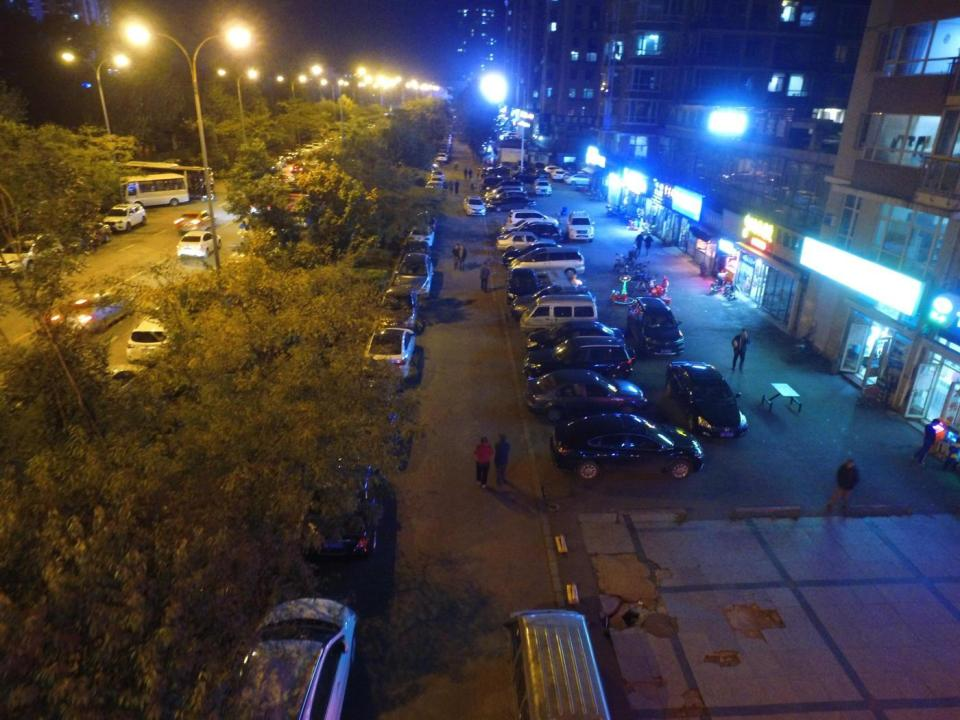bus: (97, 160, 214, 199), (280, 162, 323, 227), (119, 172, 189, 210)
car: (217, 597, 358, 720), (549, 414, 706, 483), (300, 465, 384, 559), (666, 362, 749, 440), (525, 370, 645, 419), (628, 296, 687, 357), (127, 303, 179, 363), (512, 282, 590, 321), (528, 320, 624, 351), (91, 364, 147, 417), (64, 291, 132, 334), (0, 233, 63, 279), (364, 327, 416, 378), (509, 247, 585, 278), (377, 284, 420, 332), (394, 252, 435, 299), (63, 222, 111, 254), (501, 214, 558, 240), (497, 229, 556, 253), (104, 203, 148, 233), (177, 230, 221, 260), (507, 266, 539, 306), (505, 207, 559, 230), (503, 222, 562, 243), (500, 246, 561, 264), (174, 209, 217, 234), (488, 195, 536, 214), (566, 210, 595, 241), (407, 221, 433, 247), (485, 186, 526, 199), (406, 243, 434, 262), (464, 195, 487, 218), (490, 179, 524, 193), (565, 172, 597, 186), (490, 190, 529, 201), (552, 167, 581, 181), (534, 179, 551, 197), (544, 164, 568, 176), (425, 182, 442, 196), (428, 176, 444, 188), (292, 161, 305, 174), (431, 169, 445, 181), (436, 152, 448, 162)
van: (506, 609, 608, 720), (524, 337, 631, 381), (519, 296, 597, 334)
